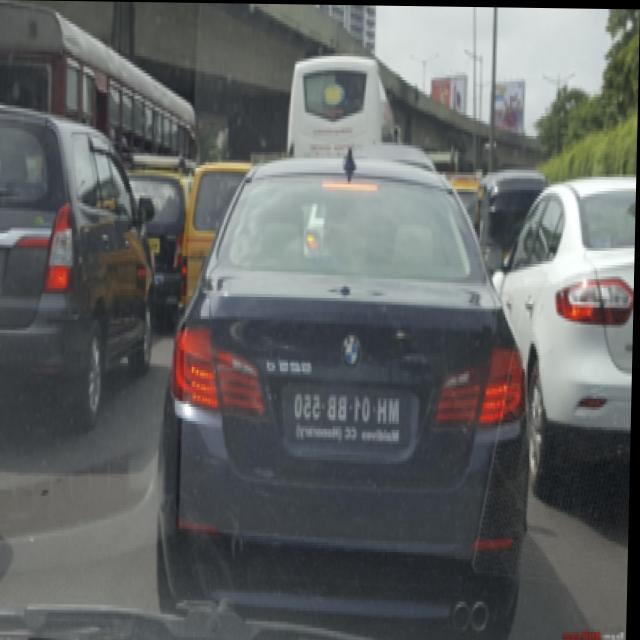licence: (285, 382, 419, 452)
